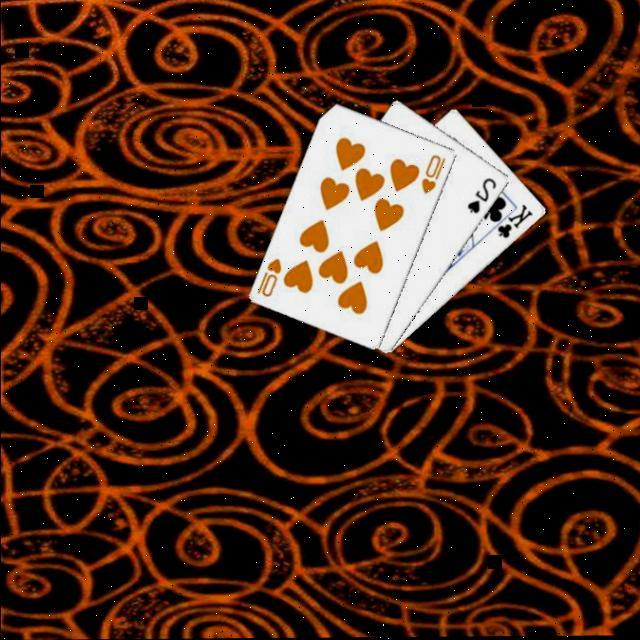10H: (253, 253, 283, 300), (417, 152, 447, 196)
2S: (462, 174, 498, 216)
KC: (484, 201, 534, 241)
